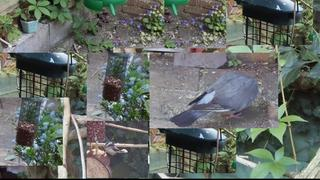long tailed tit: (102, 141, 128, 159)
wood pigeon: (170, 73, 258, 128)
